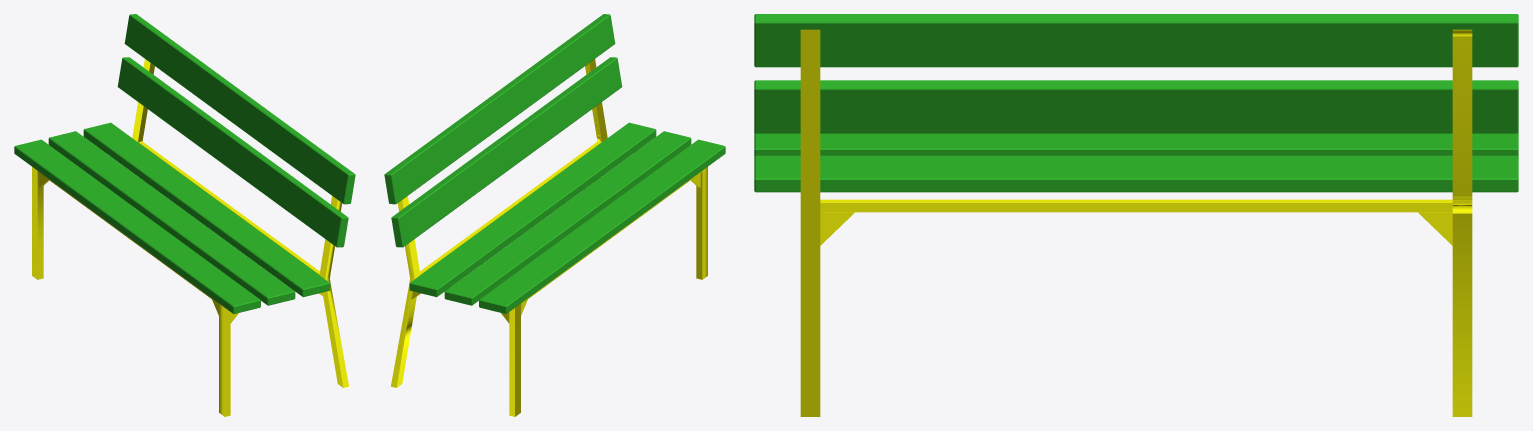
3 views of the same model, side by side, from view 1: azimuth 30°, elevation 25°; view 2: azimuth 150°, elevation 25°; view 3: azimuth 270°, elevation 25° (orthographic). The views are drawn at different scales.
Visible parts, largest first — view 1: B_04; view 2: B_04; view 3: B_04.
Boxes of the visible parts, left/top/right/bottom form: B_04: left=14, top=14, right=355, bottom=416; B_04: left=384, top=14, right=725, bottom=416; B_04: left=754, top=14, right=1518, bottom=416.
Bounding box in the file's own units: 49.75 × 82.83 × 146.
